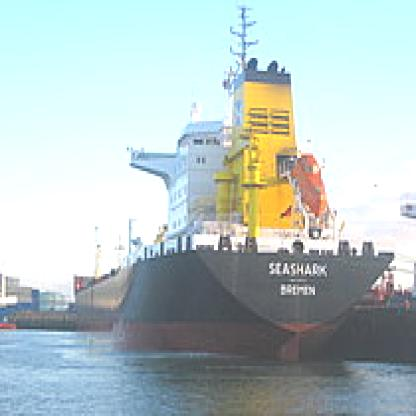Tanker: (71, 0, 404, 366)
